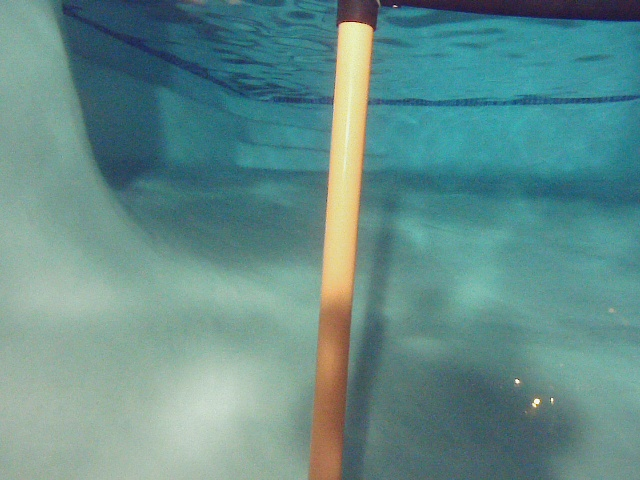Gate: (303, 9, 639, 480)
